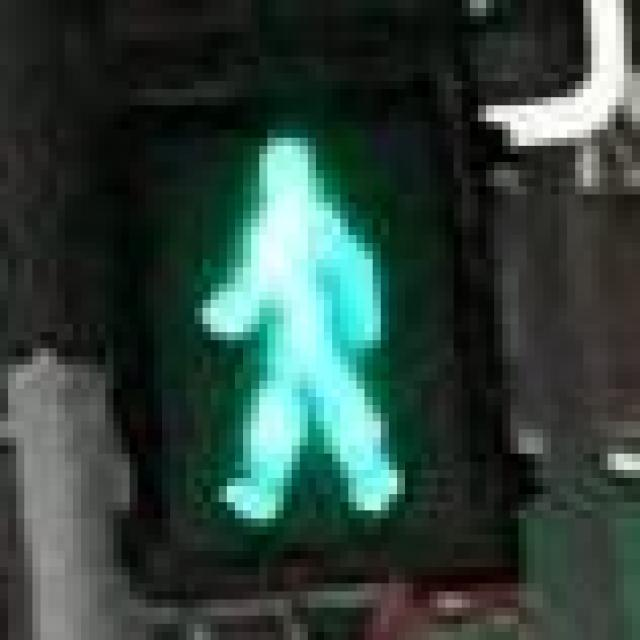geen-crossing: (106, 97, 510, 527)
